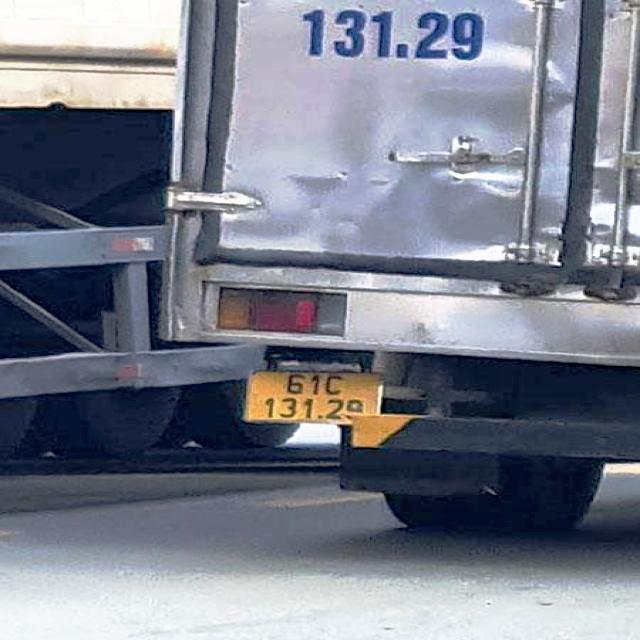license_plate: (249, 370, 384, 425)
